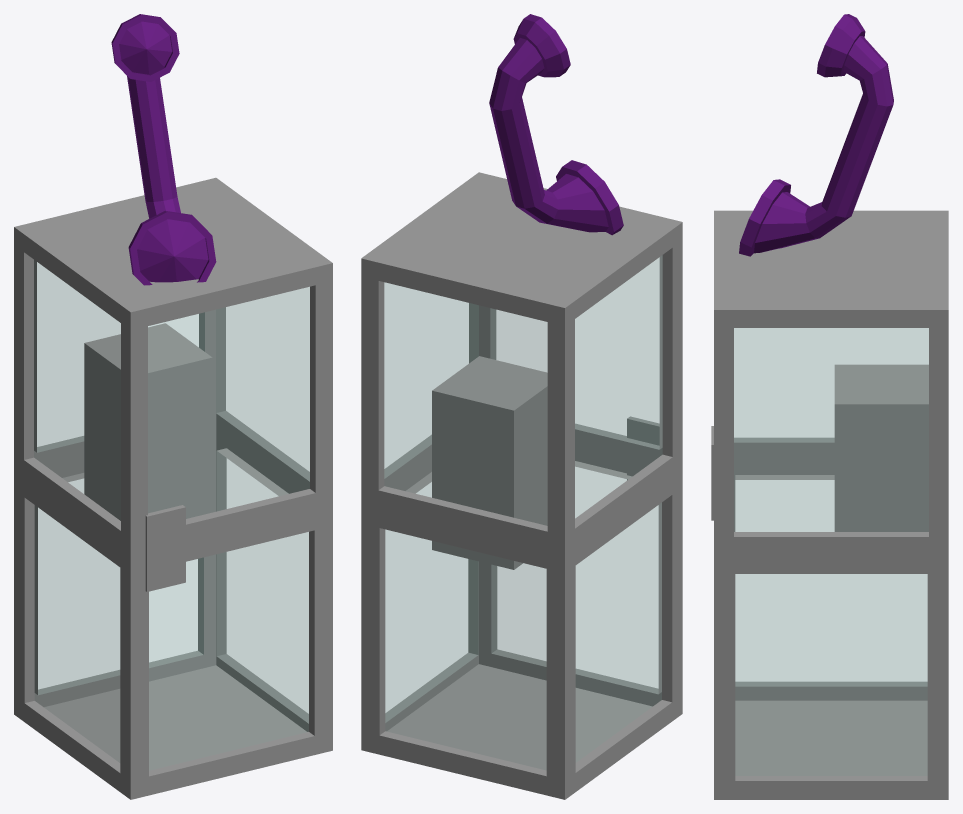
The model's file is SM_Cabina.fbx.
The picture shows the model from 3 angles, left to right: view 1: azimuth 30°, elevation 25°; view 2: azimuth 150°, elevation 25°; view 3: azimuth 270°, elevation 25°; orthographic projection.
Visible parts, largest first — view 1: Caina, Interior, Telefono, Manilla; view 2: Caina, Interior, Telefono, Manilla; view 3: Caina, Interior, Telefono.
Part boxes in pixels (bbox=[...]): Caina: bbox=[14, 177, 332, 799]; Interior: bbox=[84, 323, 212, 520]; Telefono: bbox=[111, 14, 216, 285]; Manilla: bbox=[145, 505, 185, 591]; Caina: bbox=[361, 172, 682, 799]; Interior: bbox=[432, 356, 547, 569]; Telefono: bbox=[489, 14, 623, 235]; Manilla: bbox=[627, 416, 662, 480]; Caina: bbox=[714, 210, 948, 799]; Interior: bbox=[834, 364, 928, 531]; Telefono: bbox=[739, 14, 893, 256].
Bounding box in the file's own units: 40 × 136 × 40.51.
